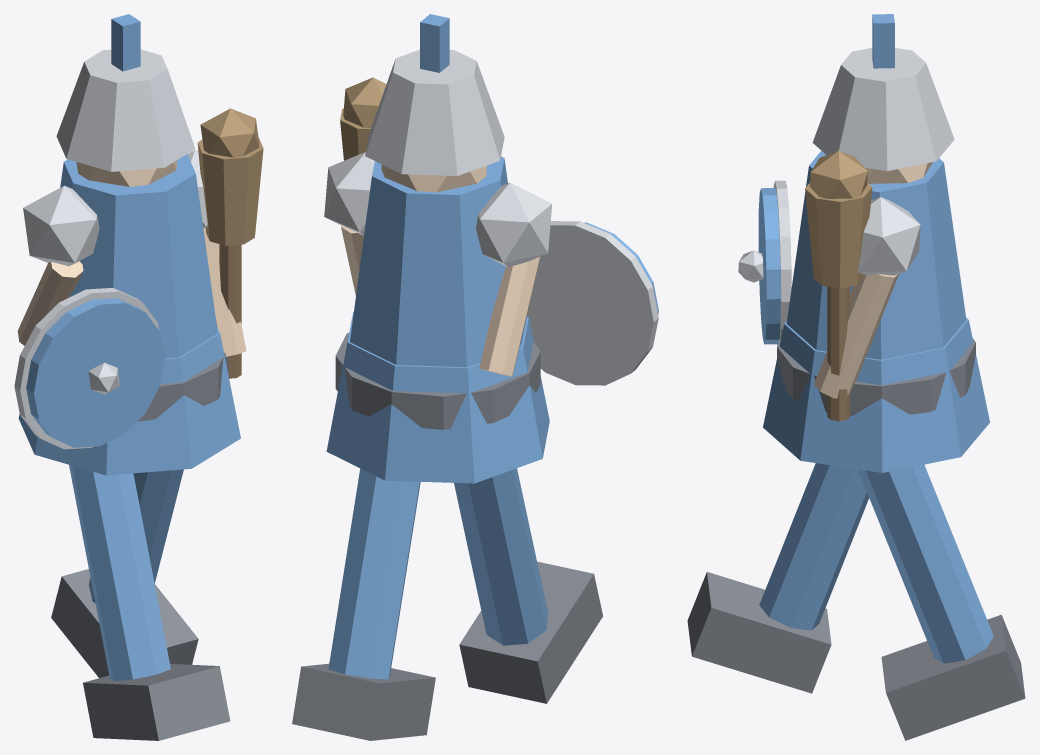
File: warrior.glb
The picture shows the model from 3 angles, left to right: view 1: azimuth 30°, elevation 25°; view 2: azimuth 150°, elevation 25°; view 3: azimuth 270°, elevation 25°; orthographic projection. The views are drawn at different scales.
Visible parts, largest first — view 1: Cone.001, Cylinder.004, Cylinder.001, Cone.002, Cone, Cube.001, Cube, Cone.003, Icosphere.001, Cylinder.005, Cylinder, Icosphere.004 (+8 smaller); view 2: Cone.001, Cone, Cylinder.005, Cone.002, Cylinder, Cylinder.001, Cube.001, Cube, Cylinder.002, Icosphere.001, Cylinder.003, Icosphere (+5 smaller); view 3: Cone, Cone.001, Cylinder, Cone.002, Cylinder.001, Cube.001, Cube, Cone.003, Cylinder.002, WeaponArm, Icosphere, Cylinder.004 (+6 smaller).
Part boxes in pixels (bbox=[...]): Cone.001: bbox=[60, 154, 217, 358]; Cylinder.004: bbox=[26, 298, 164, 447]; Cylinder.001: bbox=[69, 465, 170, 681]; Cone.002: bbox=[56, 49, 195, 171]; Cone: bbox=[18, 327, 240, 475]; Cube.001: bbox=[83, 663, 230, 740]; Cube: bbox=[51, 569, 198, 677]; Cone.003: bbox=[197, 138, 263, 245]; Icosphere.001: bbox=[23, 185, 99, 266]; Cylinder.005: bbox=[14, 288, 159, 449]; Cylinder: bbox=[88, 469, 183, 602]; Icosphere.004: bbox=[200, 108, 259, 157]; Cone.001: bbox=[350, 156, 526, 367]; Cone: bbox=[326, 311, 549, 483]; Cylinder.005: bbox=[526, 221, 658, 385]; Cone.002: bbox=[365, 49, 504, 175]; Cylinder: bbox=[328, 468, 420, 679]; Cylinder.001: bbox=[454, 468, 547, 645]; Cube.001: bbox=[459, 561, 602, 703]; Cube: bbox=[292, 663, 435, 740]; Cylinder.002: bbox=[335, 332, 540, 429]; Icosphere.001: bbox=[476, 182, 552, 267]; Cylinder.003: bbox=[479, 256, 540, 376]; Icosphere: bbox=[324, 152, 374, 235]; Cone: bbox=[763, 317, 989, 472]; Cone.001: bbox=[786, 151, 966, 359]; Cylinder: bbox=[858, 464, 993, 663]; Cone.002: bbox=[812, 48, 954, 171]; Cylinder.001: bbox=[759, 463, 868, 630]; Cube.001: bbox=[687, 572, 831, 693]; Cube: bbox=[881, 614, 1025, 740]; Cone.003: bbox=[805, 183, 872, 288]; Cylinder.002: bbox=[777, 338, 975, 415]; WeaponArm: bbox=[814, 274, 898, 398]; Icosphere: bbox=[857, 197, 920, 275]; Cylinder.004: bbox=[758, 188, 780, 344].
Size of the model in its own units: 0.8878 by 2.13 by 0.9504.
